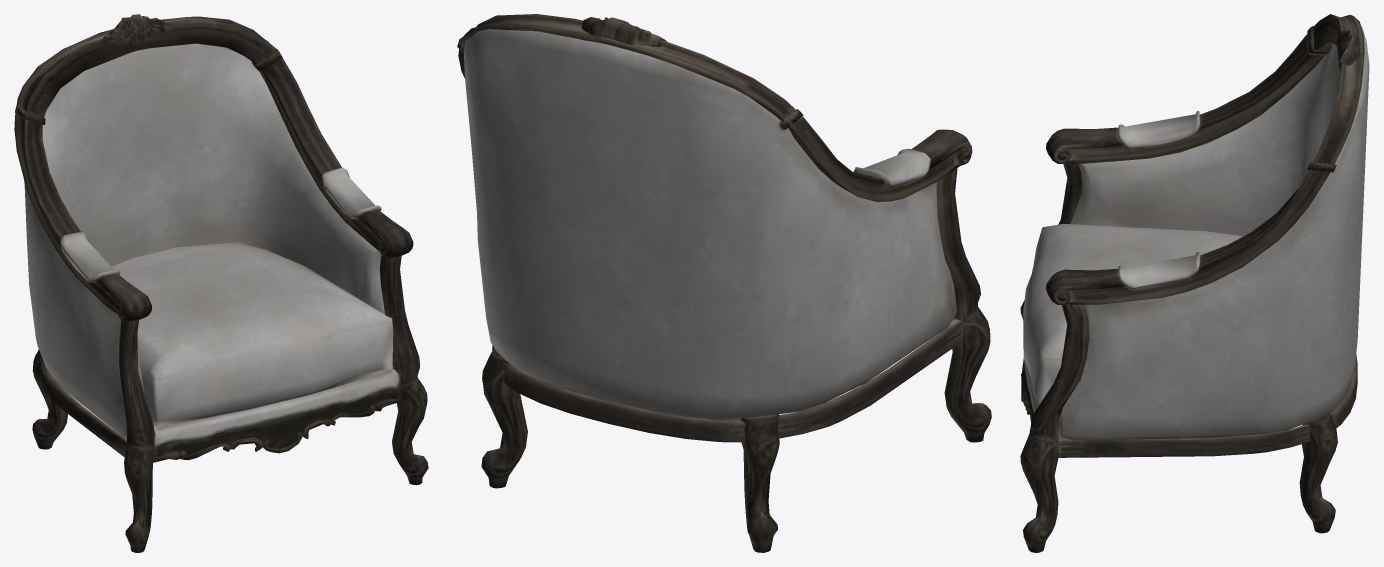
The model's file is ArmChair_01.glb.
The picture shows the model from 3 angles, left to right: view 1: azimuth 30°, elevation 25°; view 2: azimuth 150°, elevation 25°; view 3: azimuth 270°, elevation 25°; orthographic projection. The views are drawn at different scales.
Parts seen in each view (by area): view 1: ArmChair_01; view 2: ArmChair_01; view 3: ArmChair_01.
Boxes of the visible parts, left/top/right/bottom form: ArmChair_01: left=14, top=14, right=428, bottom=552; ArmChair_01: left=457, top=14, right=991, bottom=552; ArmChair_01: left=1020, top=14, right=1369, bottom=552.
Bounding box in the file's own units: 0.8483 × 1.06 × 0.7658.
1 material, 1 textured.
